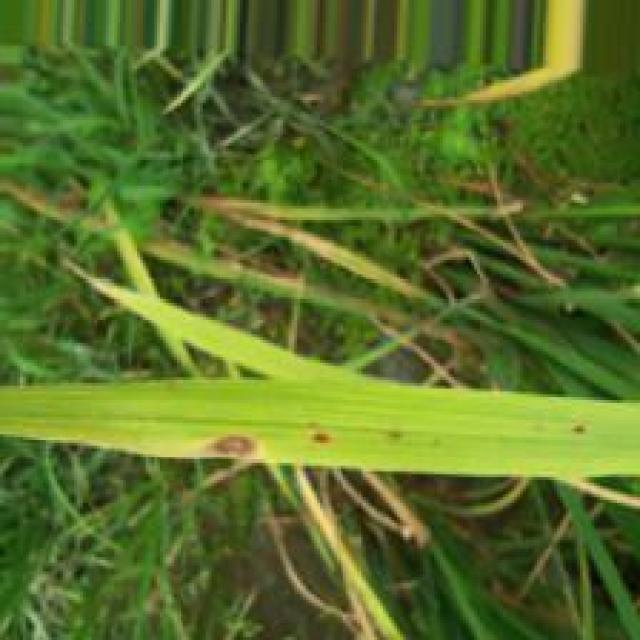Brown_Spot: (207, 432, 264, 460), (313, 431, 338, 445), (571, 423, 591, 437)
